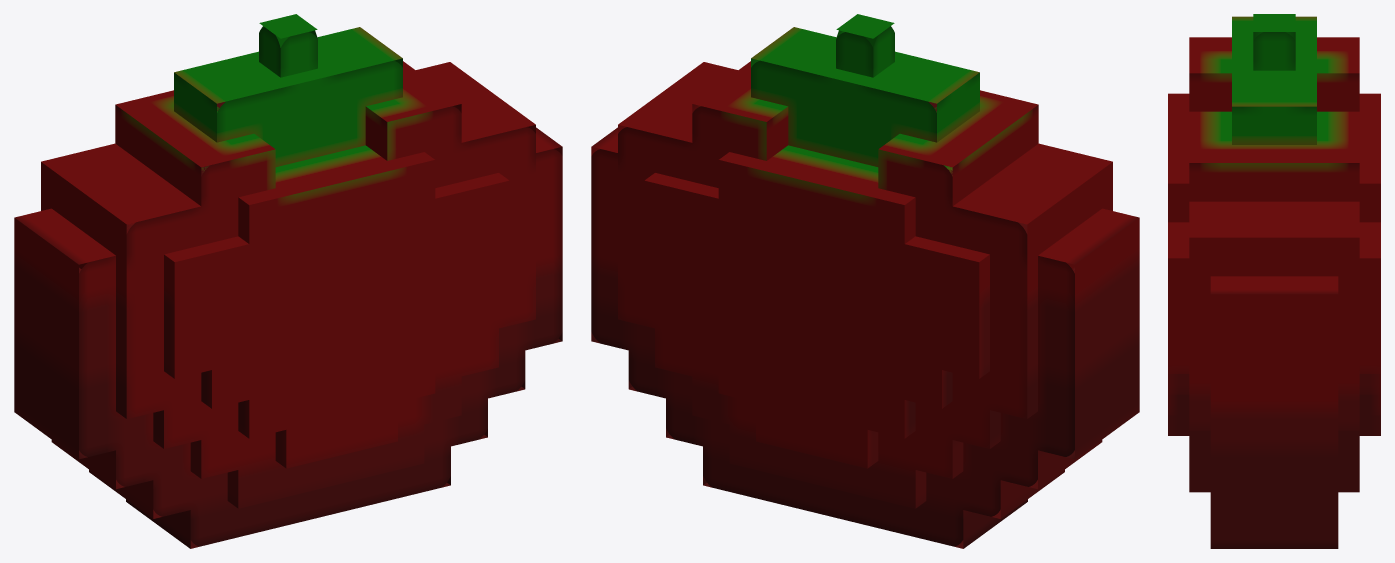
The model's file is tomato.fbx.
3 views of the same model, side by side, from view 1: azimuth 30°, elevation 25°; view 2: azimuth 150°, elevation 25°; view 3: azimuth 270°, elevation 25° (orthographic).
Parts seen in each view (by area): view 1: generated; view 2: generated; view 3: generated.
Part boxes in pixels (<box>): generated: <box>14,14,562,548</box>; generated: <box>591,14,1139,548</box>; generated: <box>1168,14,1380,548</box>.
Size of the model in its own units: 130 by 120 by 50.
